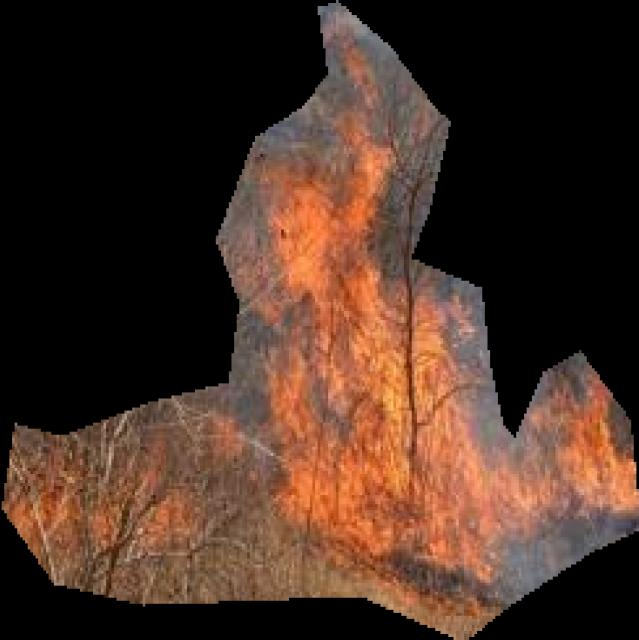fire: (1, 1, 639, 640)
